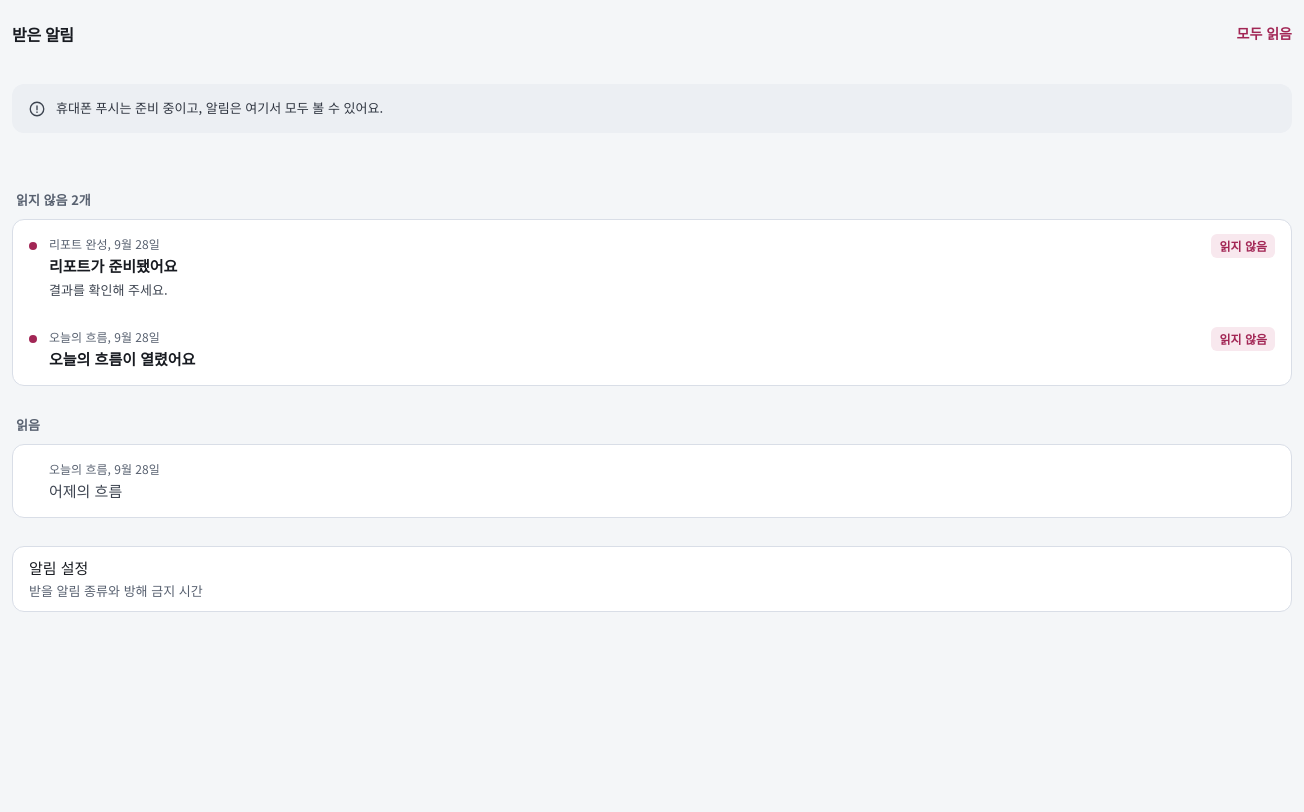
Scenario: notification inbox › keeps the list when marking read fails and says why
Click the button "오늘의 흐름, 9월 28일 오늘의 흐름이 열렸어요 읽지 않음" at (78, 337), box [13,313,1291,385]
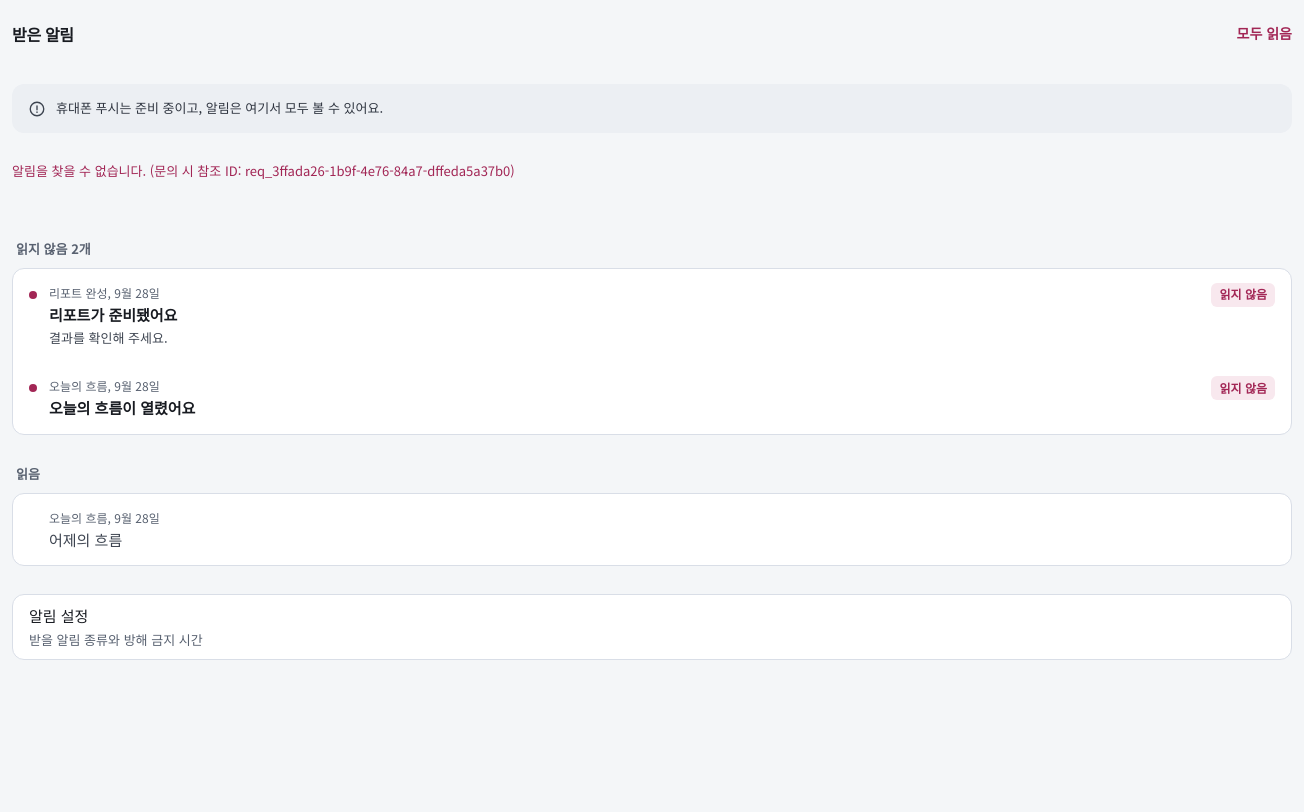
Expected: the element "읽지 않음 2개" is shown, [12,238,1292,435]
Expected: the message shows "알림을 찾을 수 없습니다.", [12,161,515,180]
